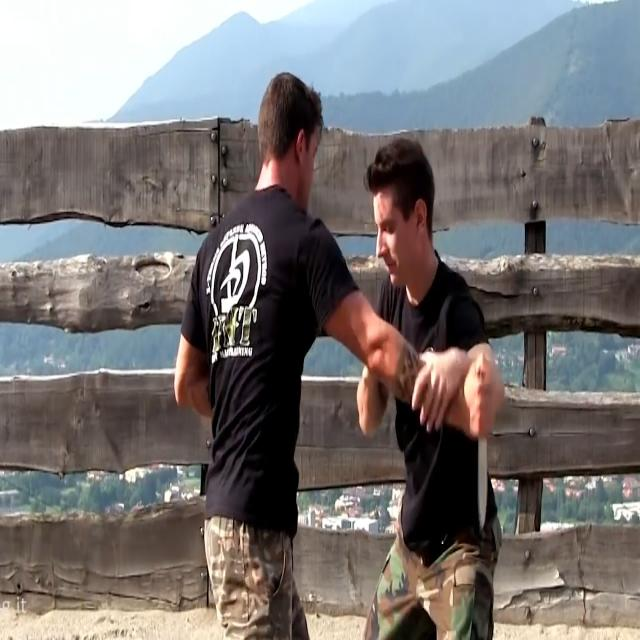knife: (479, 438, 491, 532)
